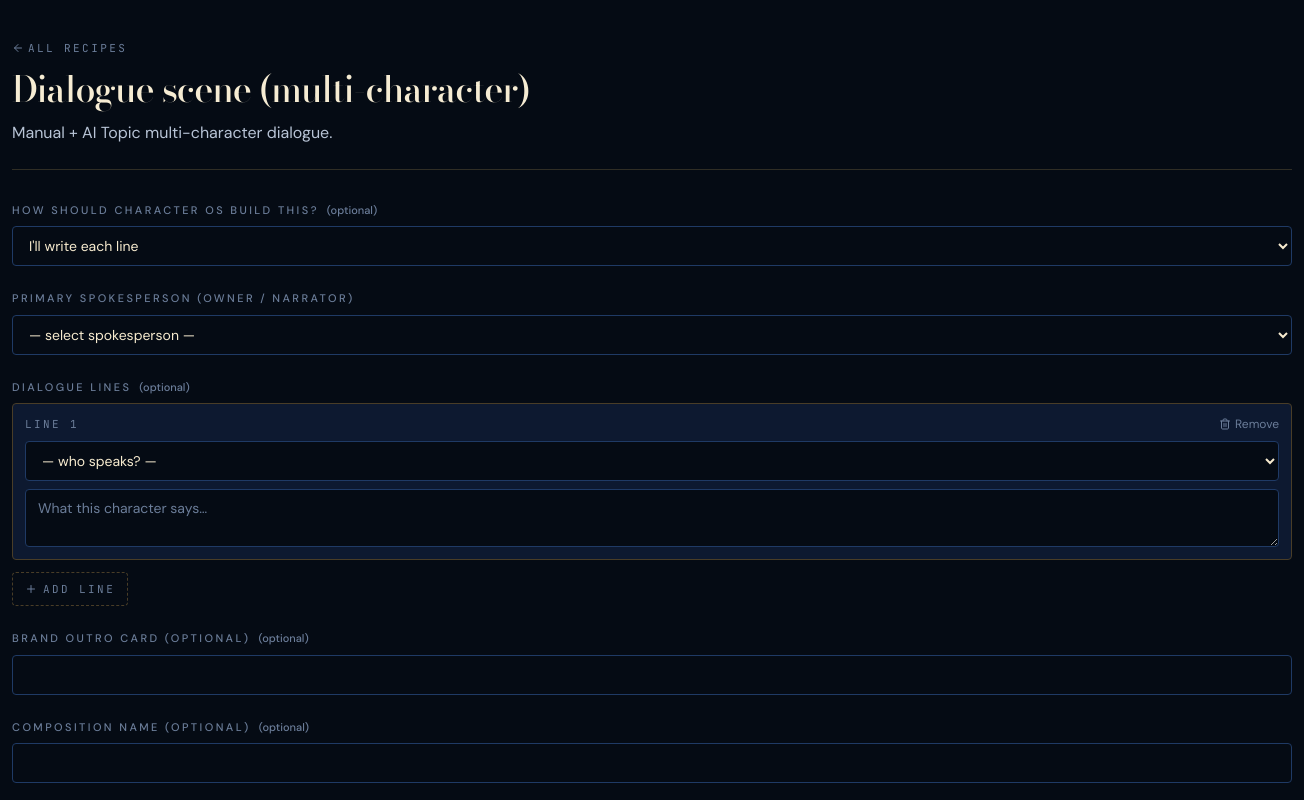
Test: dialogue_scene SPA (AI-D4) › hides the DialogueLinesEditor in AI Topic mode
Select "Character OS writes it from a topic" in the dropdown labelled "How should Character OS build this?(optional)" at {"x": 652, "y": 246}, box [12,226,1292,266]
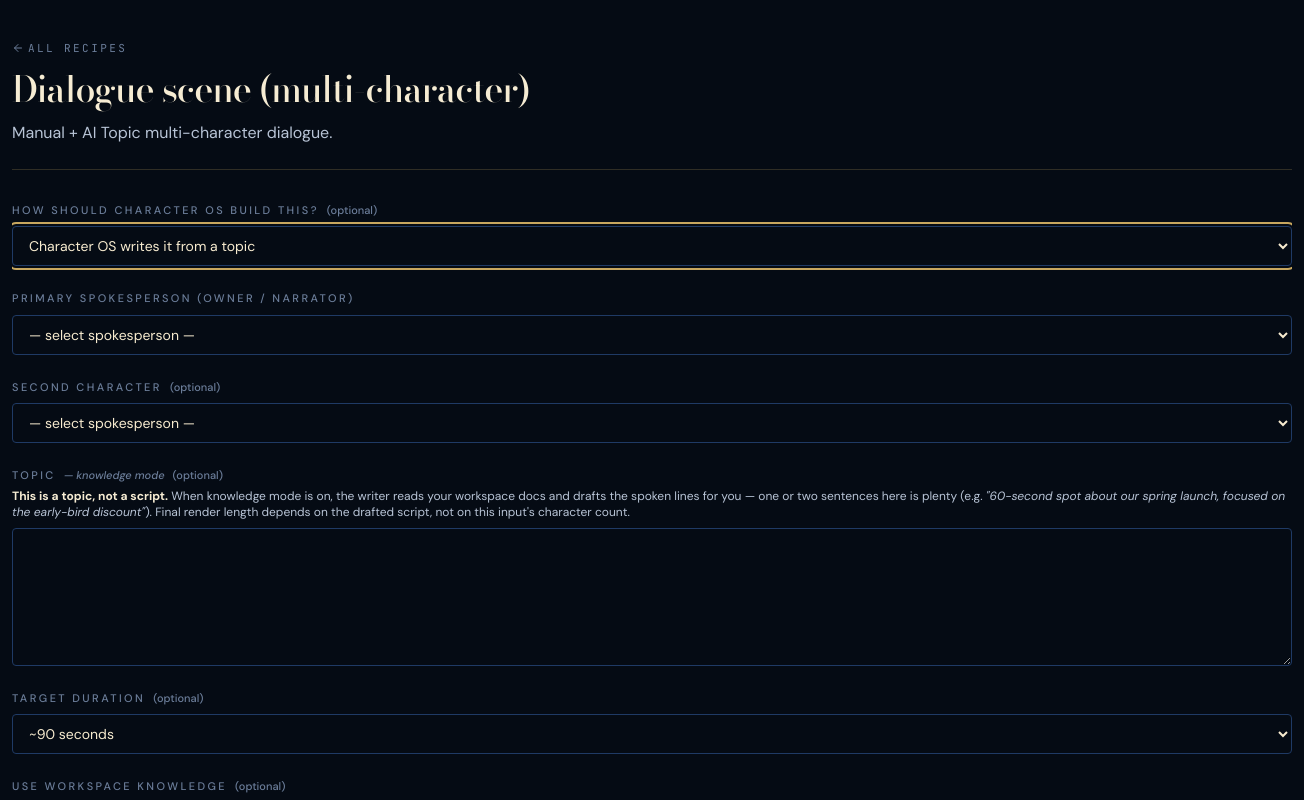
Expected: the element with test id "dialogue-lines-editor" is gone
Expected: the element with test id "recipe-field-lines" is gone
